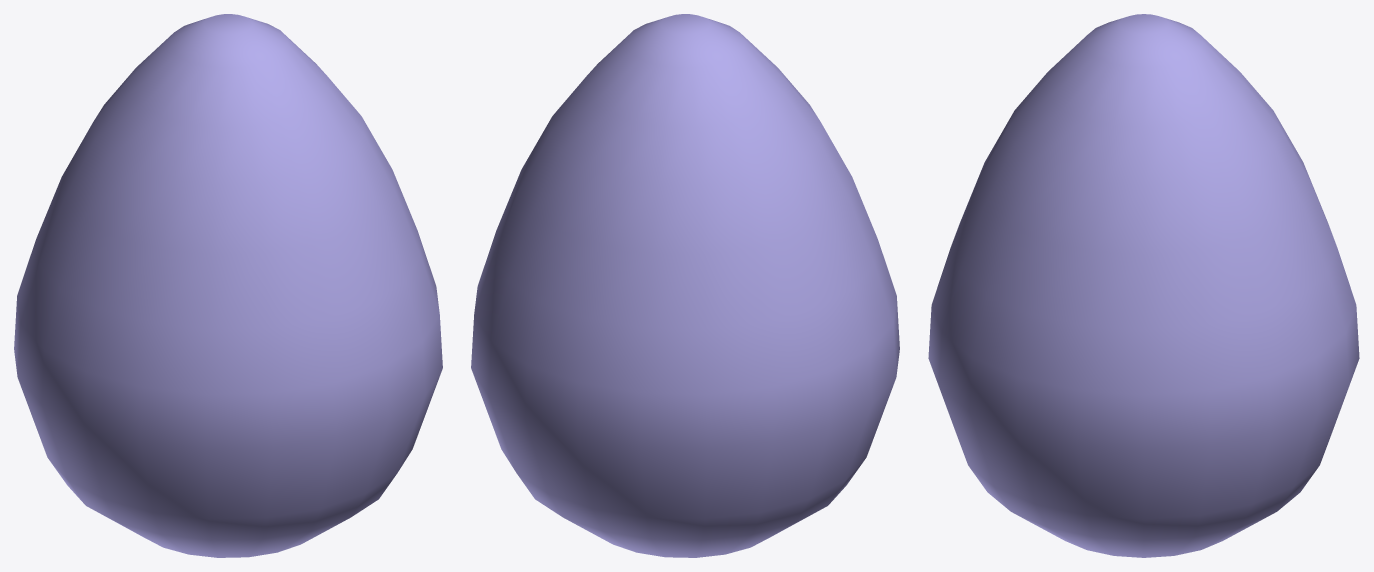
File: egg.fbx
3 views of the same model, side by side, from view 1: azimuth 30°, elevation 25°; view 2: azimuth 150°, elevation 25°; view 3: azimuth 270°, elevation 25° (orthographic).
Visible parts, largest first — view 1: Circle; view 2: Circle; view 3: Circle.
Part boxes in pixels (x1,y1,x2,y2): Circle: (14, 14, 442, 557); Circle: (471, 14, 899, 557); Circle: (928, 14, 1359, 557).
Size of the model in its own units: 62.9 by 79.27 by 62.9.
